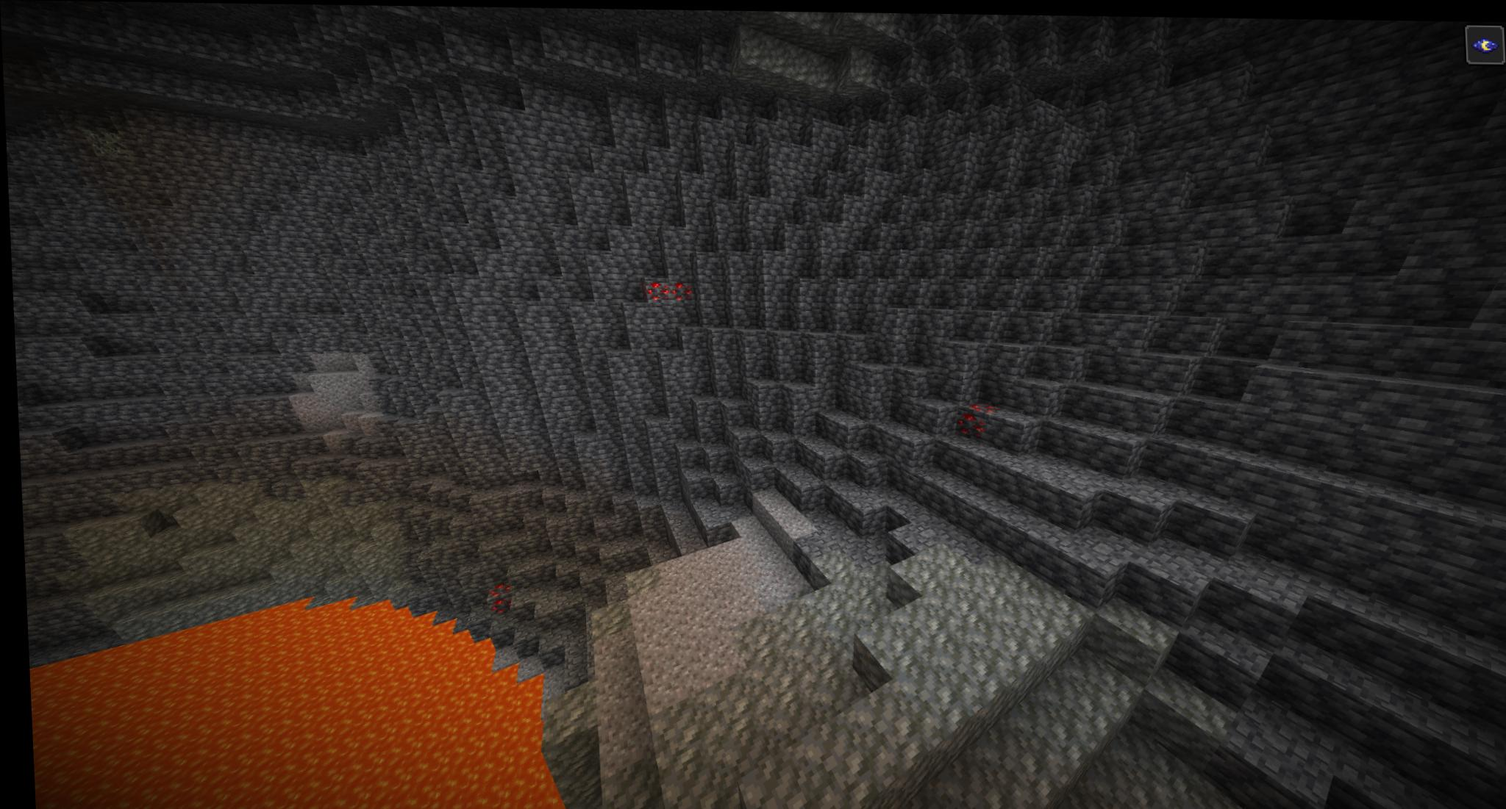redstone ore: (957, 396, 998, 432), (664, 270, 695, 303), (476, 580, 507, 612), (640, 276, 671, 304)
